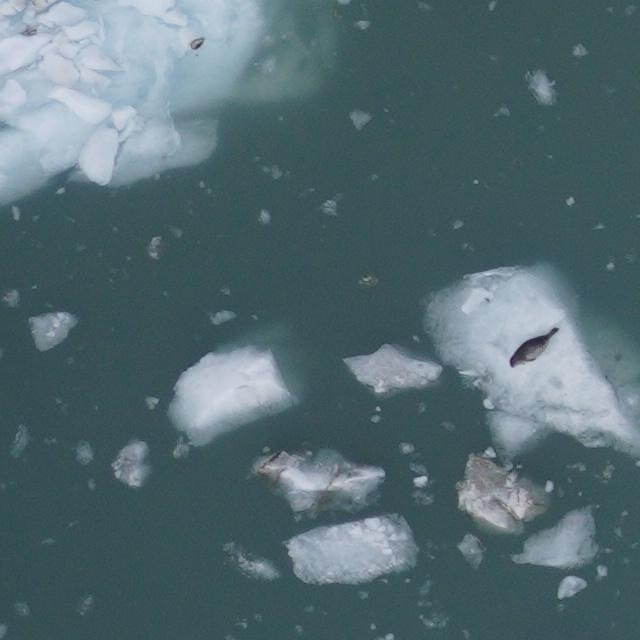seal: (506, 325, 563, 371)
